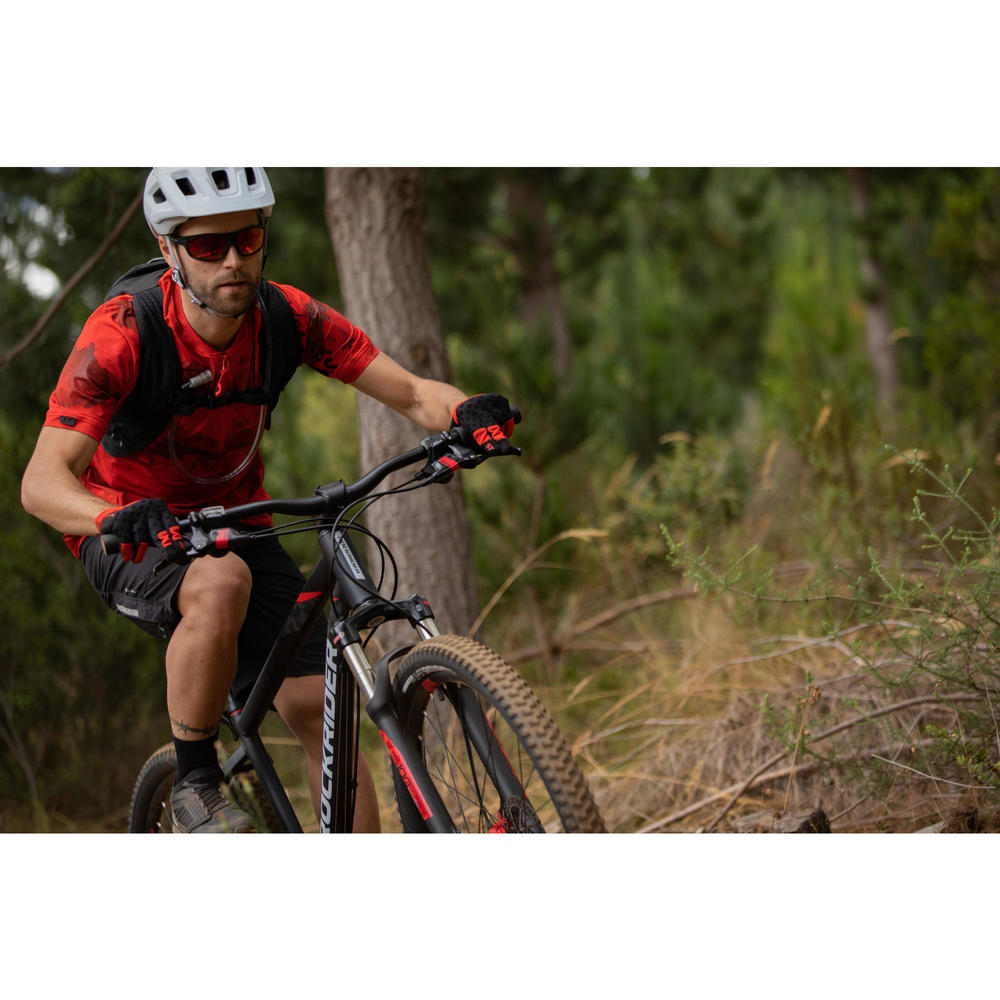MountainBike: (113, 392, 617, 834)
